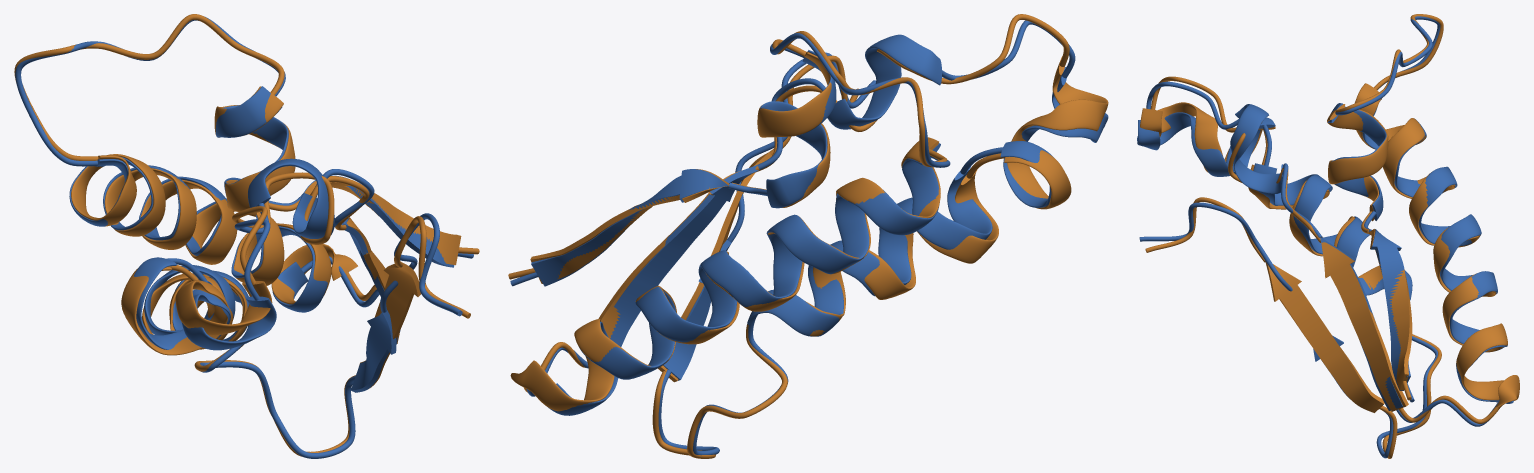
File: molstar-model.glb
3 views of the same model, side by side, from view 1: azimuth 30°, elevation 25°; view 2: azimuth 150°, elevation 25°; view 3: azimuth 270°, elevation 25° (orthographic). The views are drawn at different scales.
Bounding box in the file's own units: 35.28 × 34.39 × 33.55.
